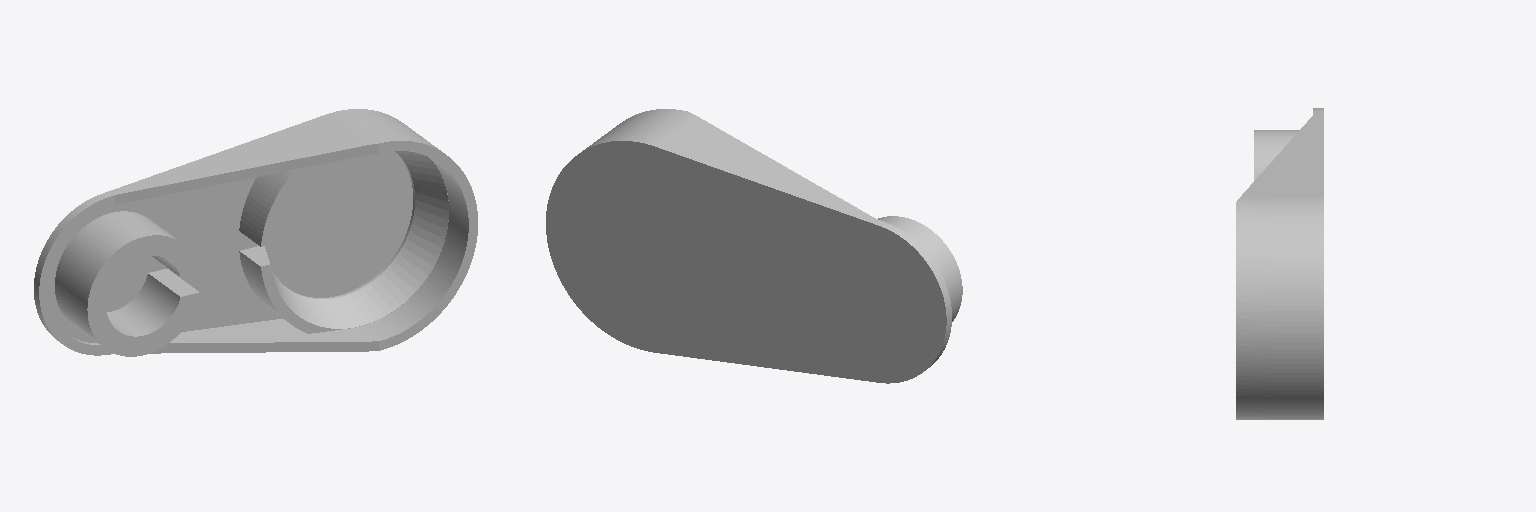
The model's file is coffee_grinder_stand.obj.
3 renders of one model, left to right at view 1: azimuth 30°, elevation 25°; view 2: azimuth 150°, elevation 25°; view 3: azimuth 270°, elevation 25°, orthographic.
Visible parts, largest first — view 1: coffee_grinder_stand; view 2: coffee_grinder_stand; view 3: coffee_grinder_stand.
Boxes of the visible parts, x1,y1,x2,y2 form: coffee_grinder_stand: [34, 109, 477, 356]; coffee_grinder_stand: [546, 109, 962, 383]; coffee_grinder_stand: [1236, 108, 1323, 419].
Bounding box in the file's own units: 212 × 105 × 40.